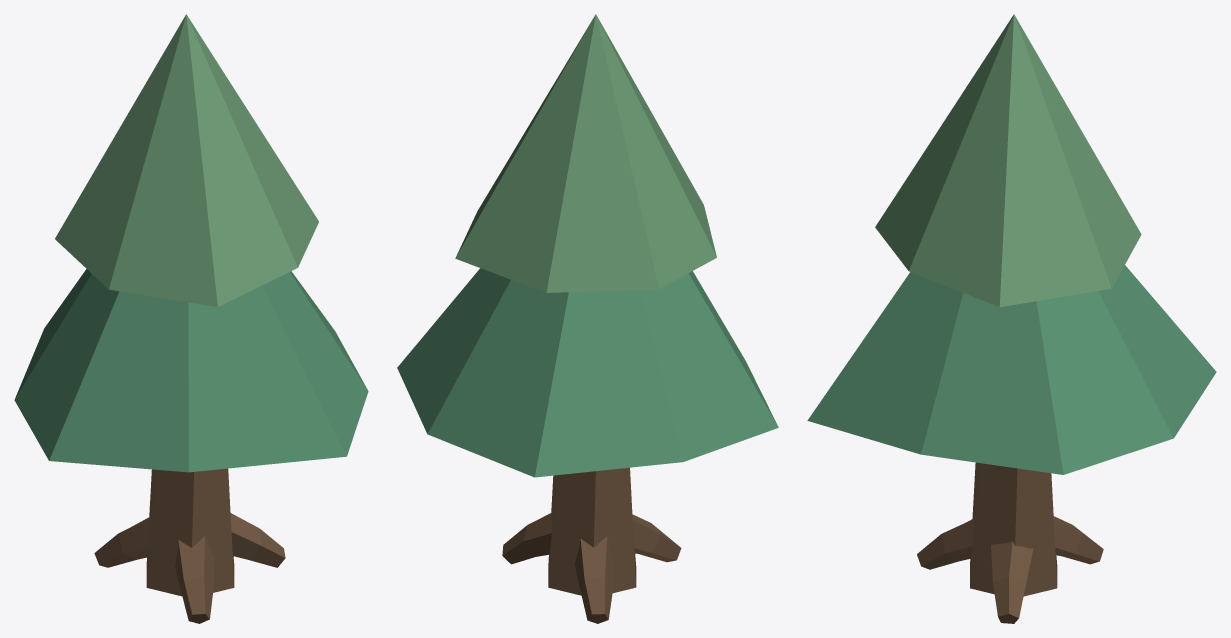
The model's file is Cozy_Tree_Small_02_BabyPine.fbx.
3 views of the same model, side by side, from view 1: azimuth 30°, elevation 25°; view 2: azimuth 150°, elevation 25°; view 3: azimuth 270°, elevation 25° (orthographic).
Visible parts, largest first — view 1: Cozy_Tree_Small_02_BabyPine; view 2: Cozy_Tree_Small_02_BabyPine; view 3: Cozy_Tree_Small_02_BabyPine.
Boxes of the visible parts, x1,y1,x2,y2 form: Cozy_Tree_Small_02_BabyPine: (14, 14, 368, 623); Cozy_Tree_Small_02_BabyPine: (397, 14, 778, 623); Cozy_Tree_Small_02_BabyPine: (807, 14, 1216, 623).
Size of the model in its own units: 1.44 by 2.36 by 1.54.
